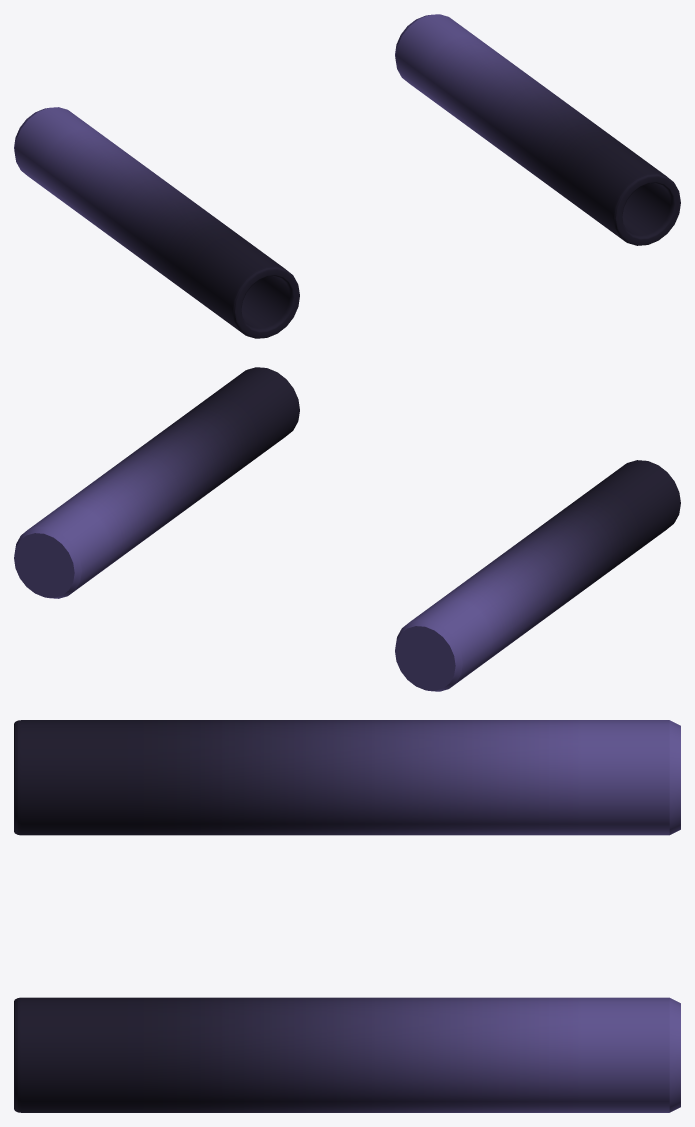
Rendered from Cannons Coloured Solo.fbx.
The picture shows the model from 3 angles, top to bottom: view 1: azimuth 30°, elevation 25°; view 2: azimuth 150°, elevation 25°; view 3: azimuth 270°, elevation 25°; orthographic projection. The views are drawn at different scales.
Visible parts, largest first — view 1: Cannons; view 2: Cannons; view 3: Cannons.
Boxes of the visible parts, x1,y1,x2,y2 form: Cannons: [14, 14, 680, 338]; Cannons: [14, 367, 680, 691]; Cannons: [14, 720, 680, 1112].
Size of the model in its own units: 320 by 48.08 by 276.
Materials: 1 (1 with a texture image).
